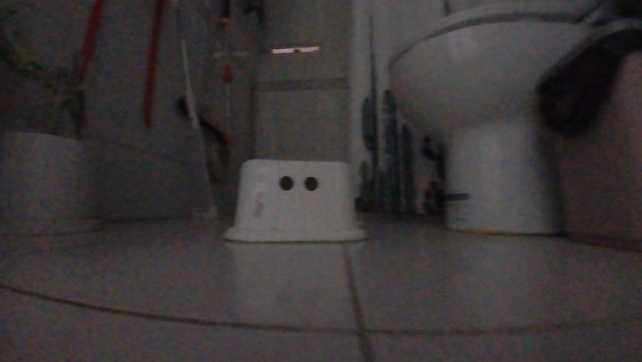toilet: (388, 0, 595, 236)
trash_can: (533, 20, 640, 250)
